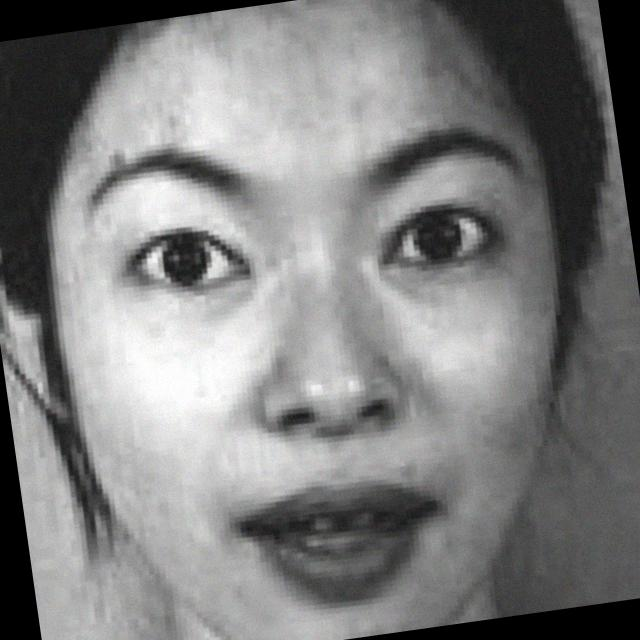surprise: (37, 2, 588, 640)
